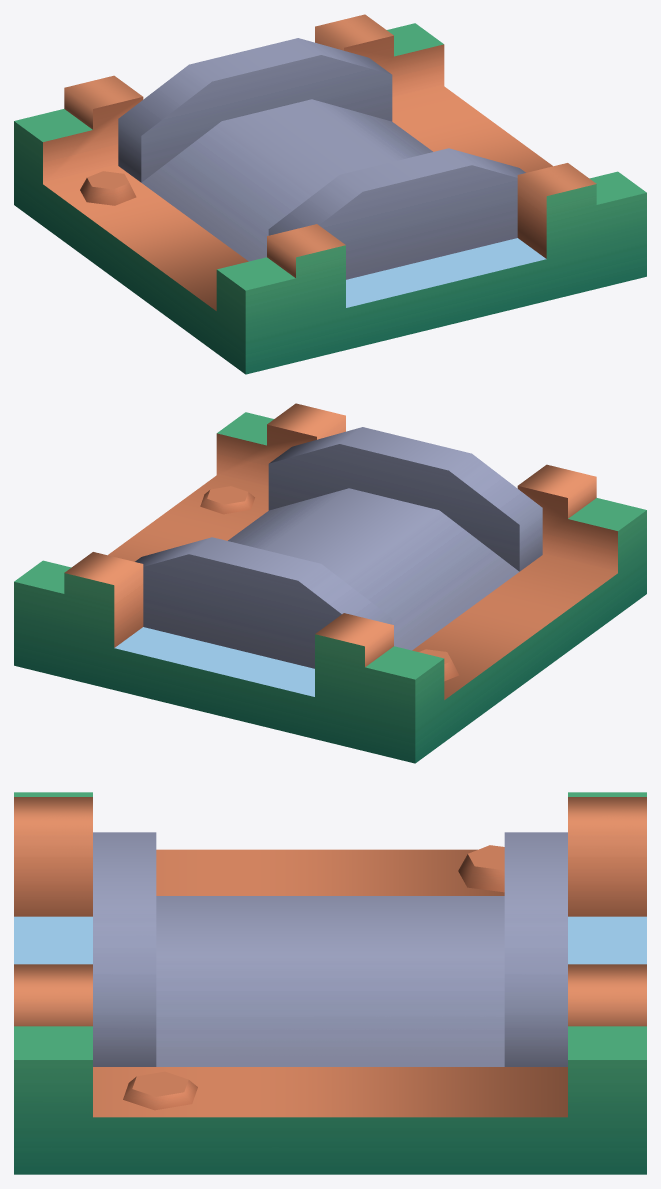
The model's file is tile-river-bridge.glb.
3 renders of one model, top to bottom at view 1: azimuth 30°, elevation 25°; view 2: azimuth 150°, elevation 25°; view 3: azimuth 270°, elevation 25°, orthographic. The views are drawn at different scales.
Visible parts, largest first — view 1: tile-river-bridge; view 2: tile-river-bridge; view 3: tile-river-bridge.
Part boxes in pixels (box(x1,y1,x2,y2)): tile-river-bridge: box(14, 14, 646, 374); tile-river-bridge: box(14, 403, 646, 763); tile-river-bridge: box(14, 792, 646, 1174).
Size of the model in its own units: 1 by 0.3 by 1.
1 material, 1 textured.
